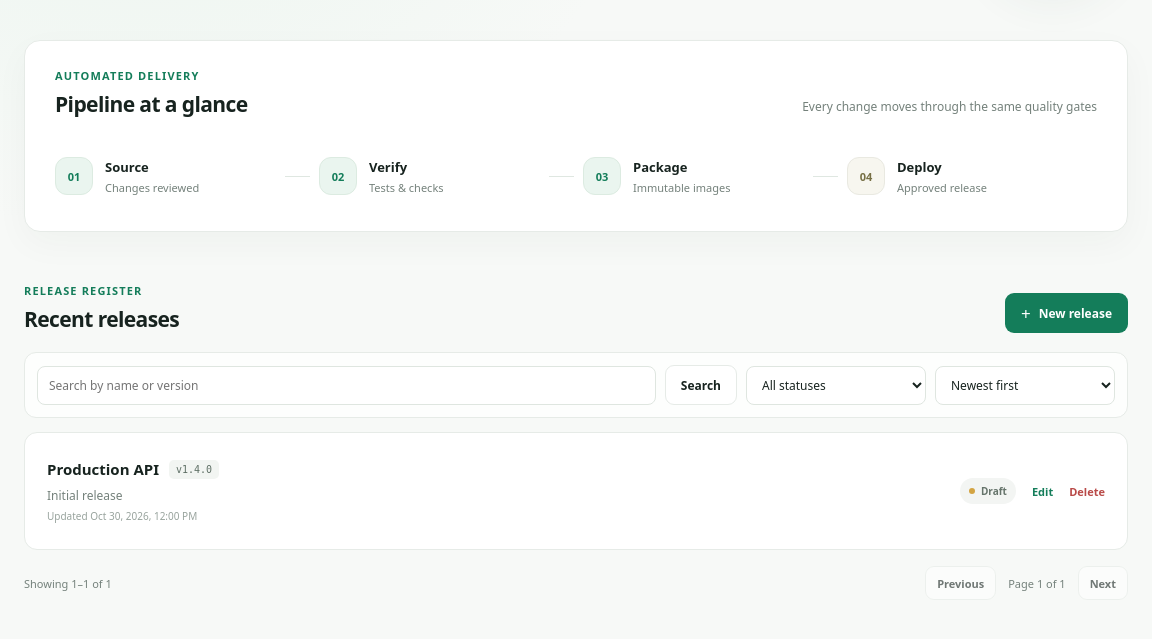
Test case: release dashboard › updates a release from its edit form
(page scrolled)
Click the button with aria-label "Edit Production API" at (1043, 491), box [1032, 478, 1053, 504]
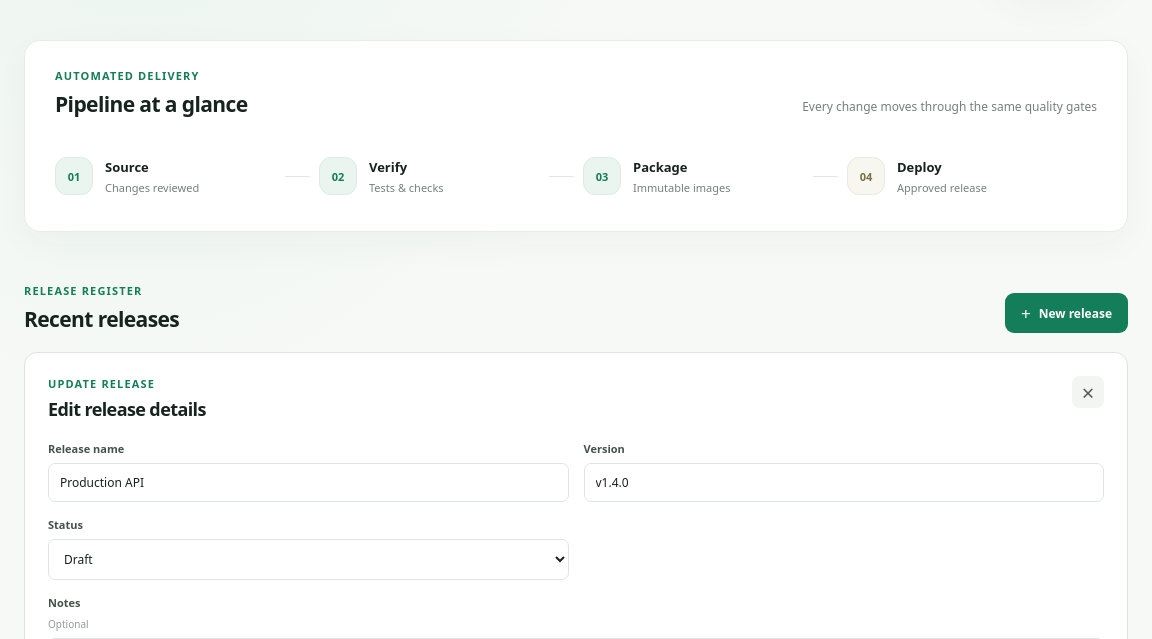
Select "Succeeded" in the dropdown labelled "Status" at (308, 560), box [48, 539, 568, 580]
(page scrolled)
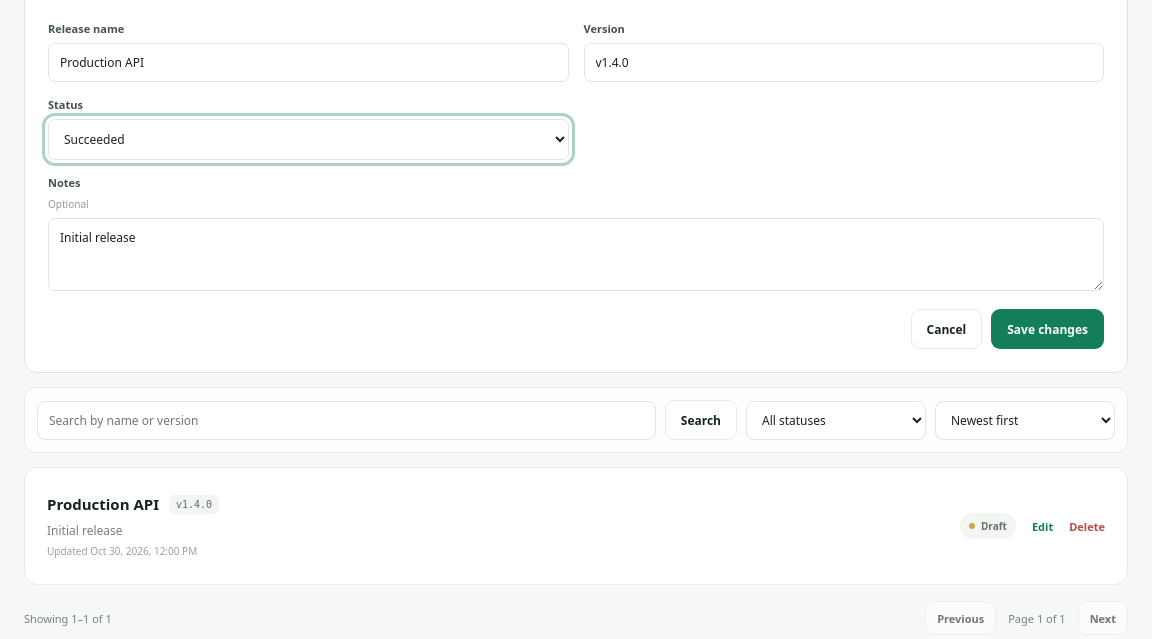
Click the button "Save changes" at (1048, 329), box [991, 309, 1104, 349]
(page scrolled)
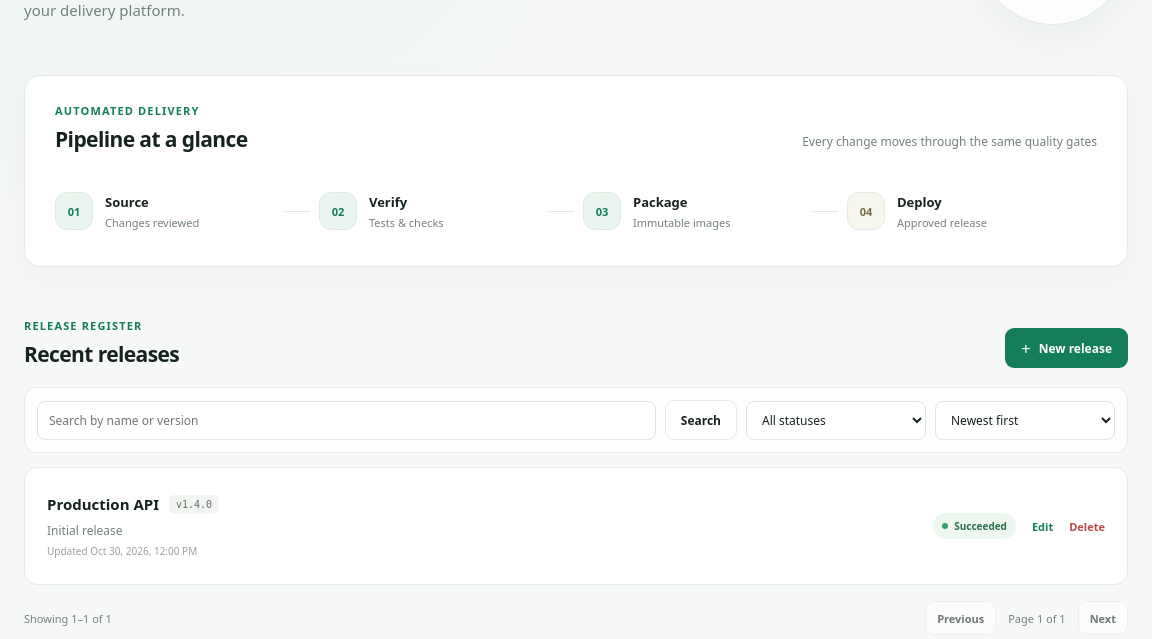
Now the text "Succeeded" is shown, box [933, 513, 1016, 539]
